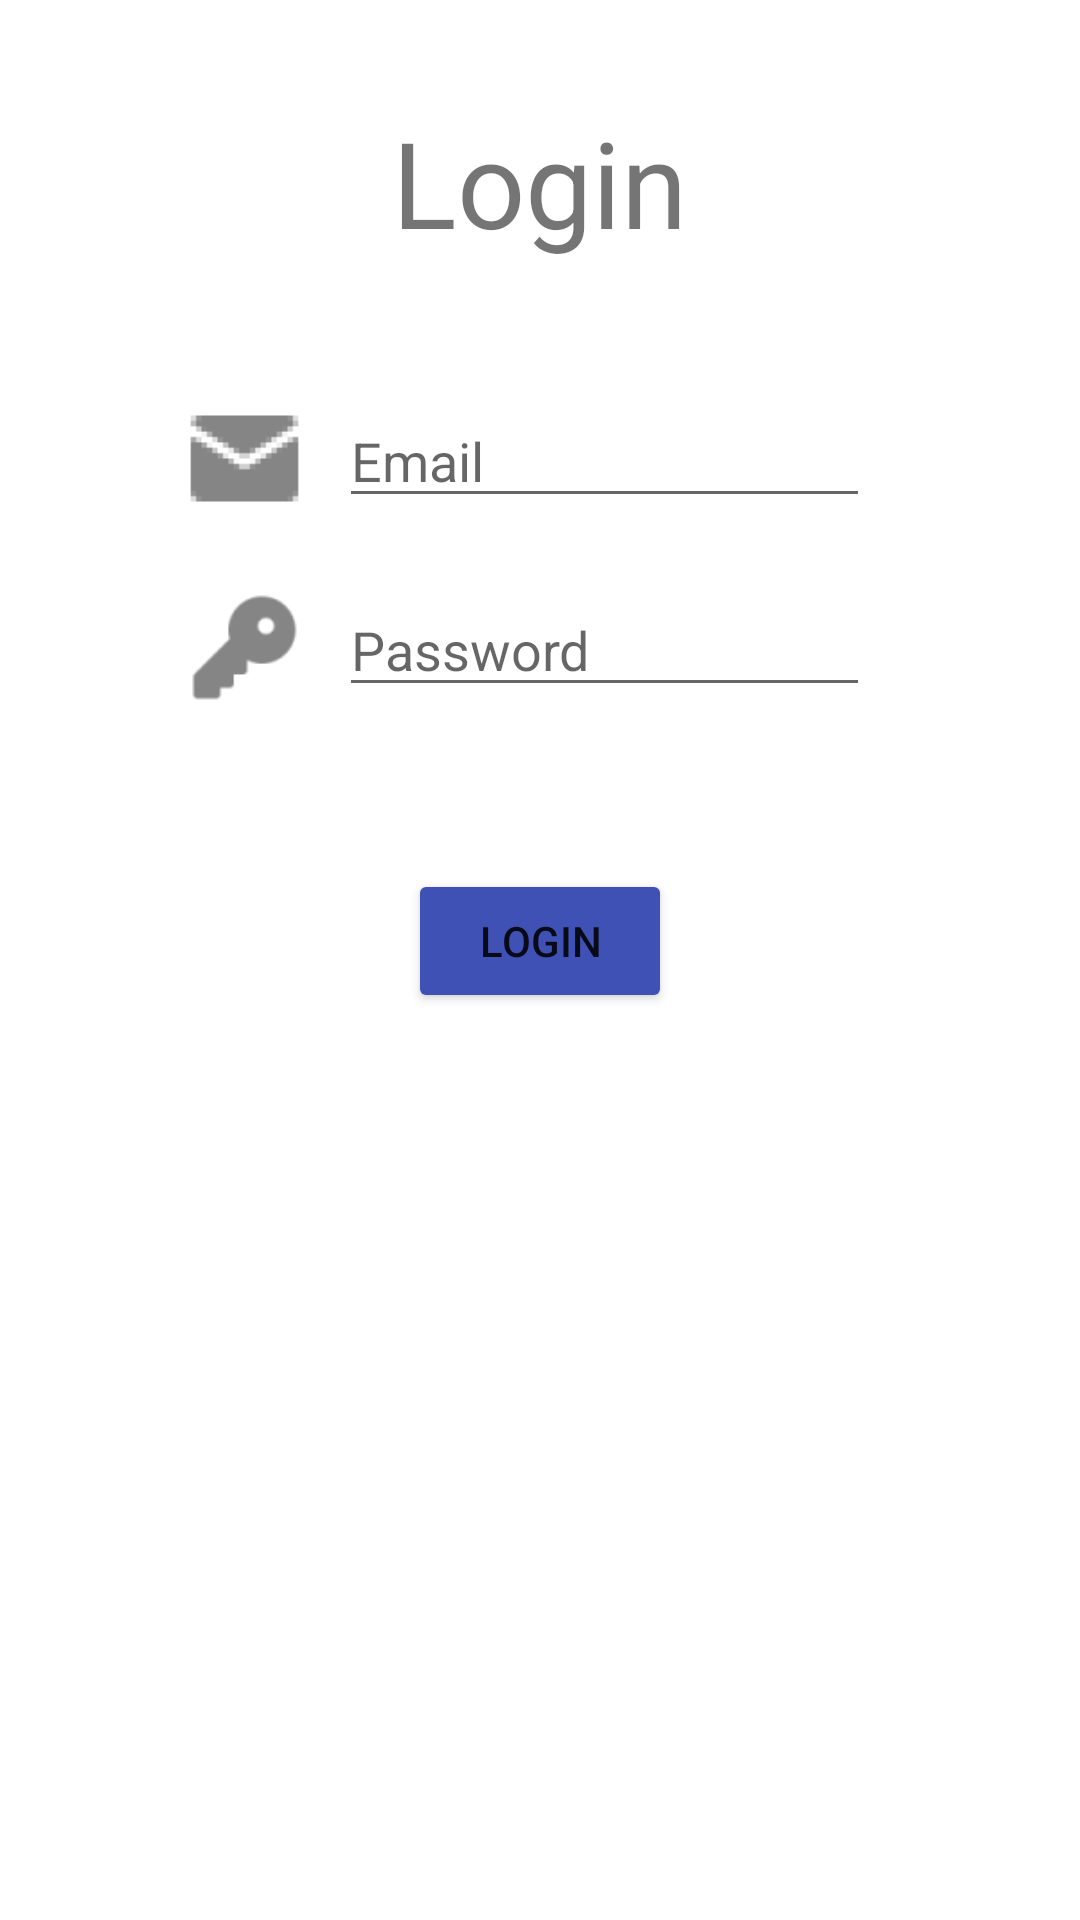

Icons on this 1080px×1920px Android screen, each with its box as (x1,y1,x2,y2):
key: (192,595,297,700)
